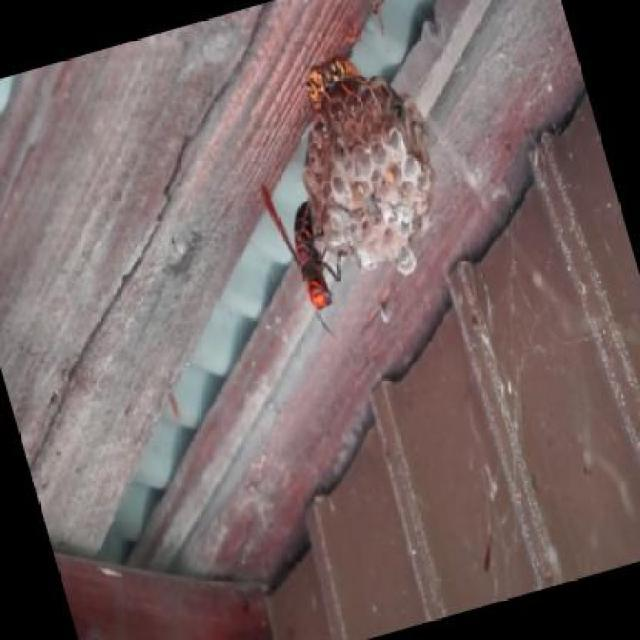Wasp: (256, 185, 340, 332), (302, 49, 356, 92)
